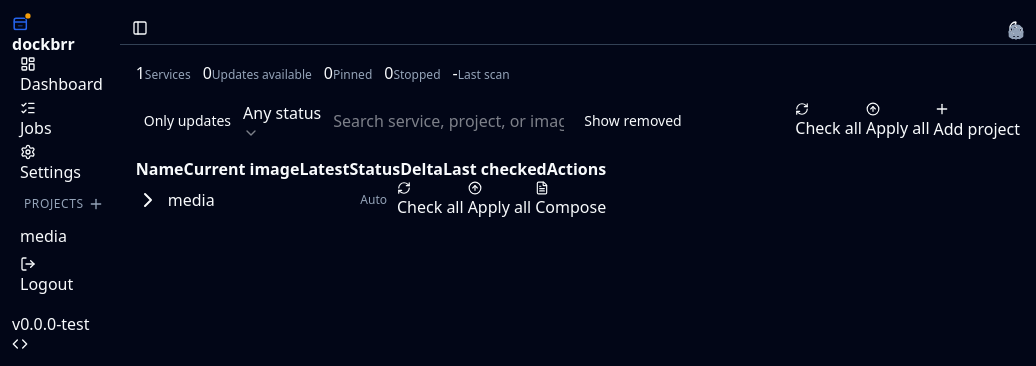
Sidebar › collapsing hides the labels and persists the state
The image size is (1036, 366).
Expected: the link "Dashboard" is shown, [20,56,112,96]
Click the button named "collapse sidebar" at [140, 28], box [132,20,148,36]
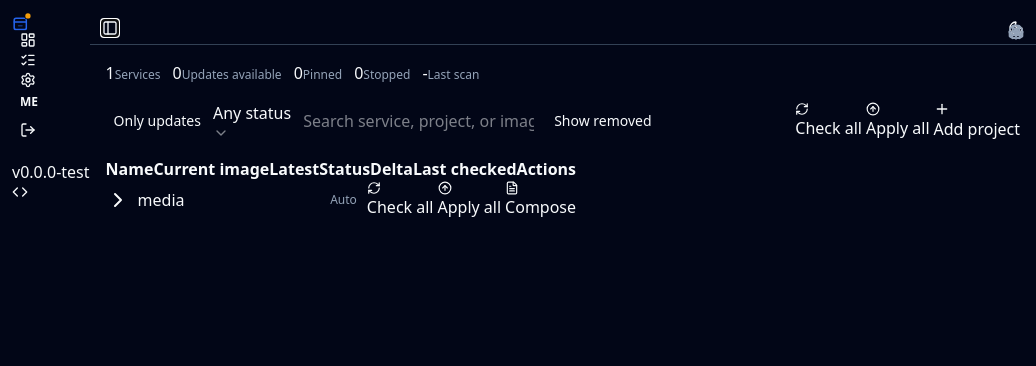
Expected: the link named "Dashboard" is shown, [20,32,36,48]
Expected: the text "Projects" is gone
Expected: the button named "expand sidebar" is shown, [102,20,118,36]
